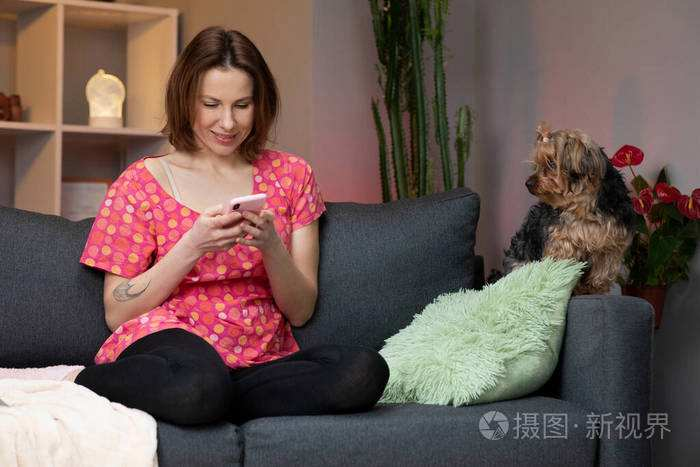reading: (185, 190, 282, 254)
